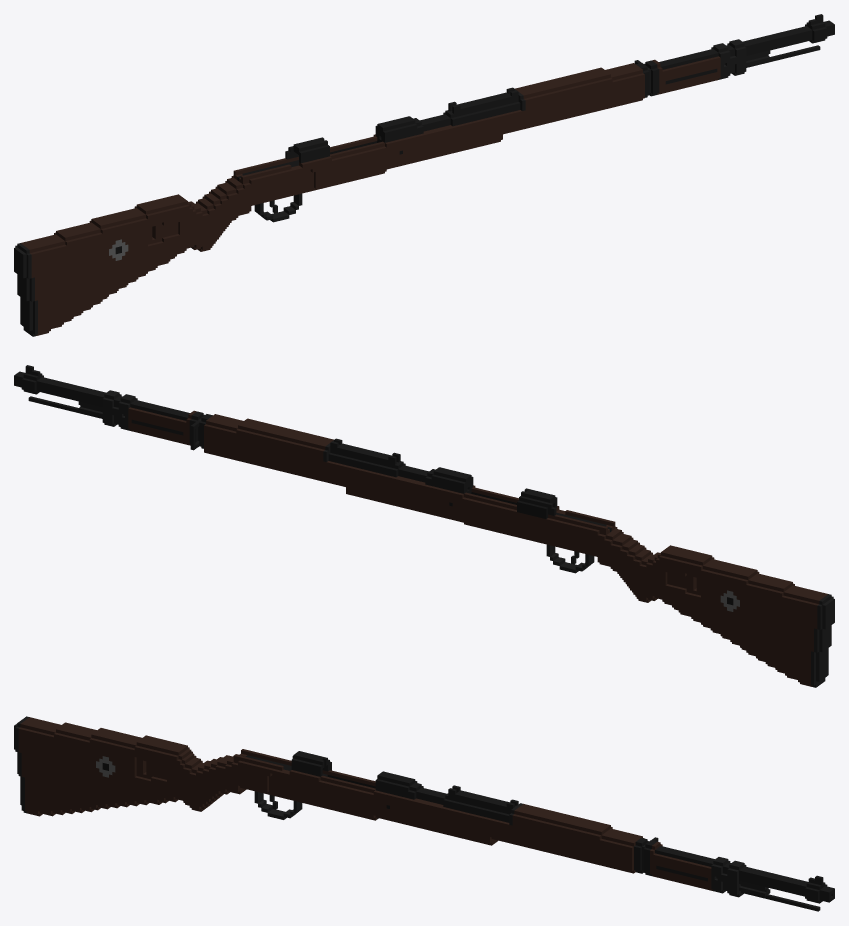
Rendered from Kar98k_stock_loaded.obj.
3 views of the same model, one above another, from view 1: azimuth 30°, elevation 25°; view 2: azimuth 150°, elevation 25°; view 3: azimuth 330°, elevation 25° (orthographic).
Size of the model in its own units: 25.2 by 3.7 by 0.9.
1 material, 1 textured.
